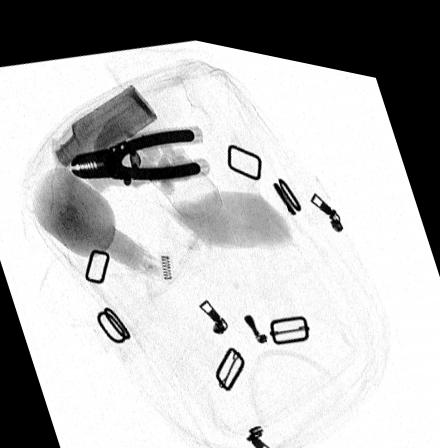Pliers: (68, 120, 201, 177)
